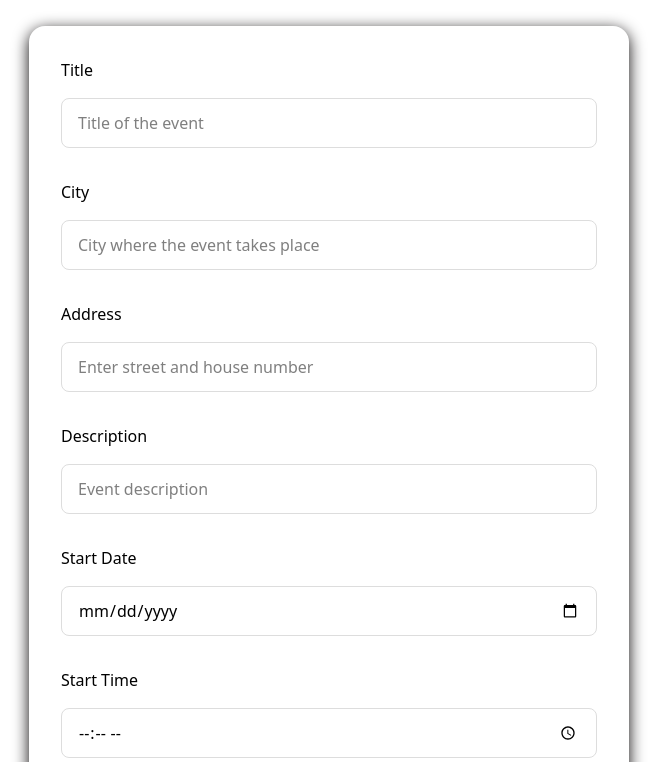
Test: CreatePost Page › submits the form and handles errors when backend is not available
The width and height of the screenshot is (659, 762).
Type "Test Event" into the field with placeholder "Title of the event". click: (329, 123)
box: [61,98,597,148]
Type "Berlin" into the field with placeholder "City where the event takes place". click: (329, 245)
box: [61,220,597,270]
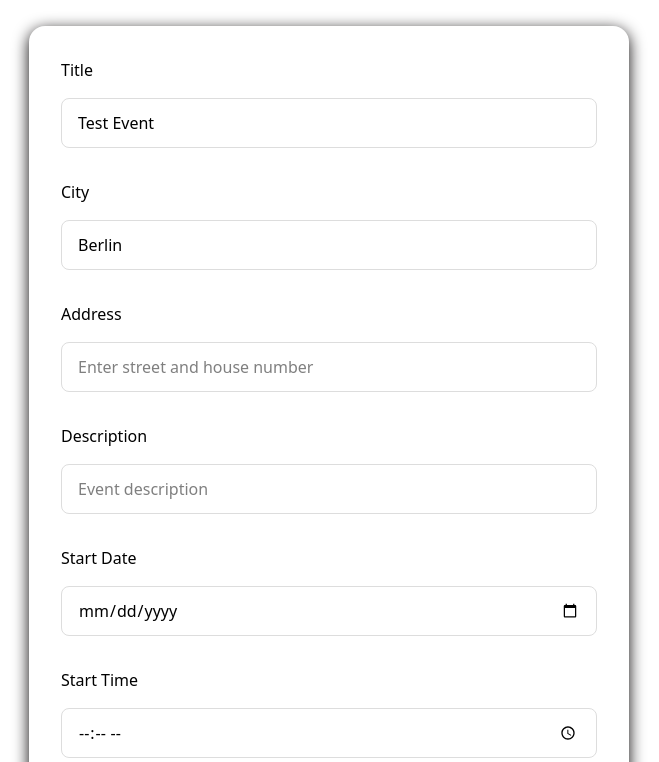
Type "Street 123" into the field with placeholder "Enter street and house number". click: (329, 367)
box: [61,342,597,392]
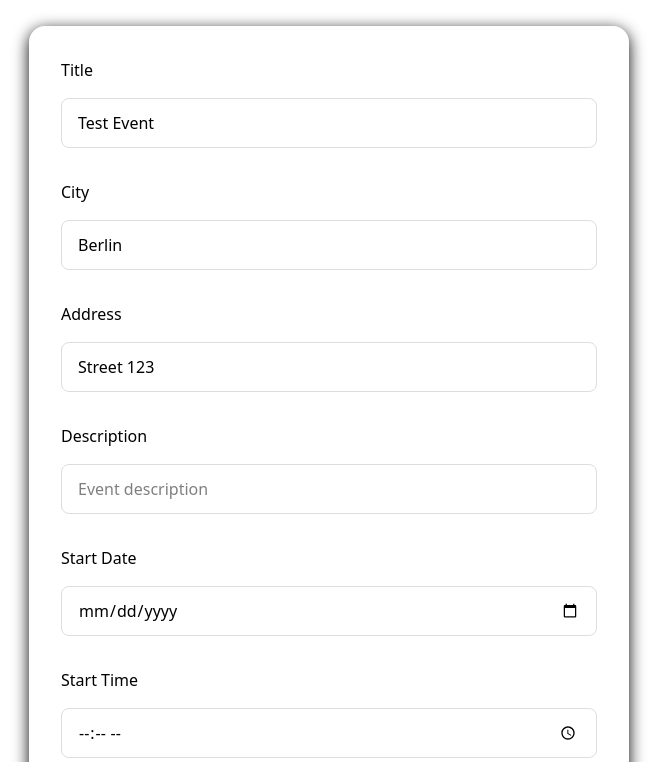
Type "This is a test event." into the field with placeholder "Event description". click: (329, 489)
box: [61,464,597,514]
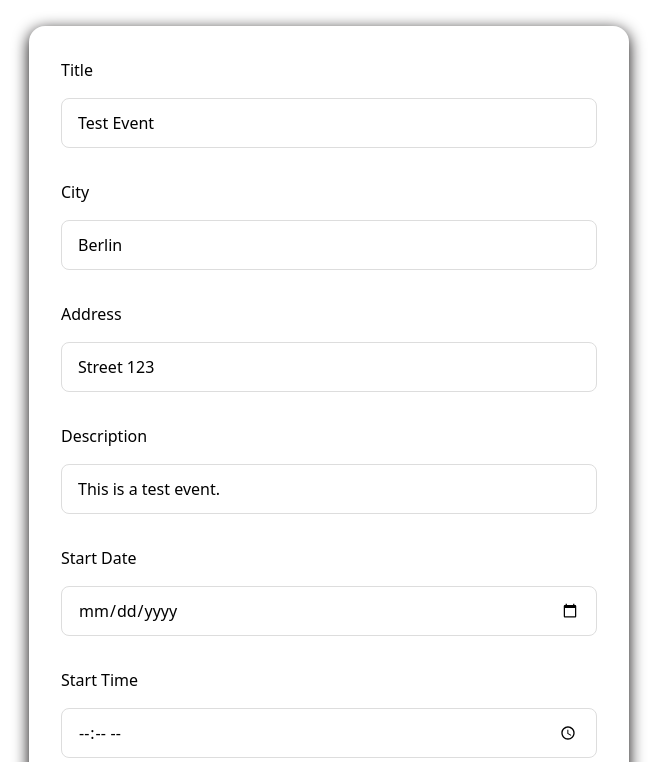
Type "2025-06-19" into the date field with placeholder "Start Date". click: (329, 611)
box: [61,586,597,636]
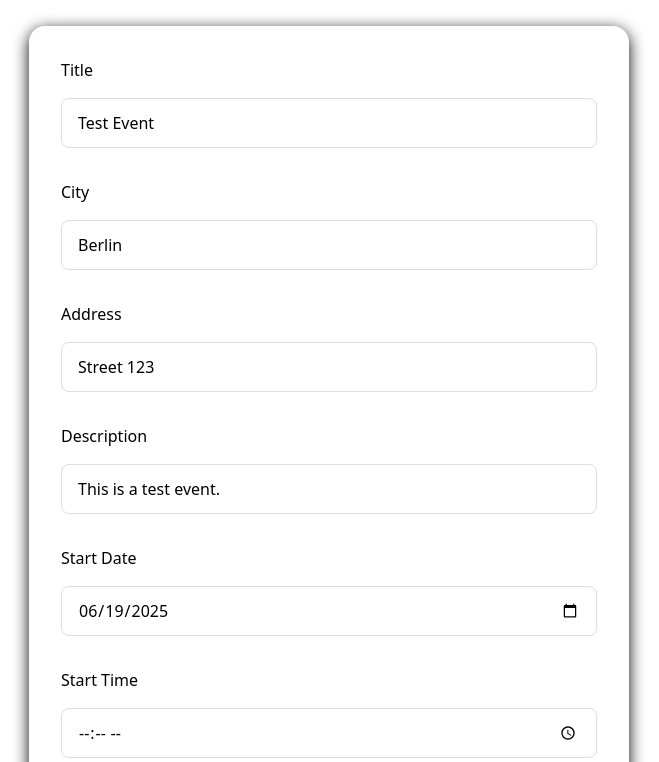
Type "12:00" into the time field with placeholder "Start Time". click: (329, 733)
box: [61,708,597,758]
(page scrolled)
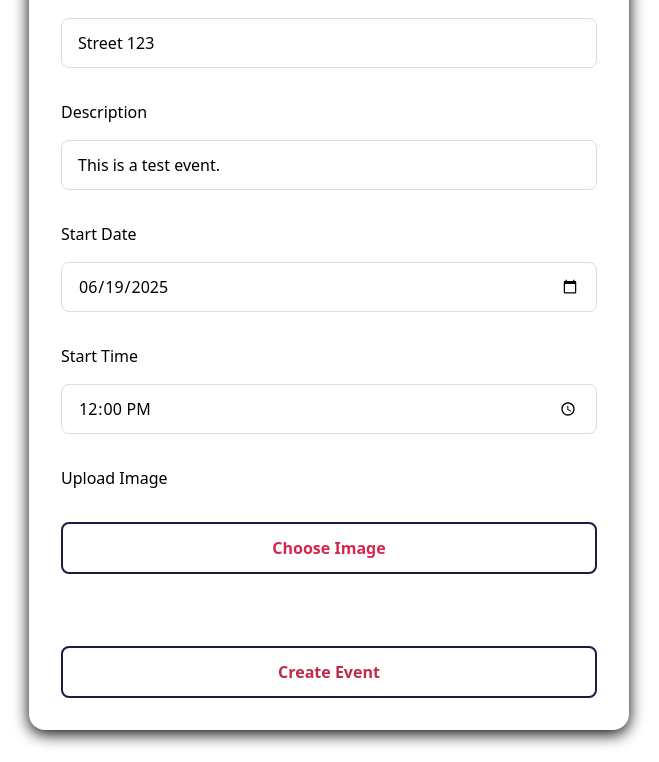
Click the button "Create Event". click: click(329, 672)
box: [61,646,597,698]
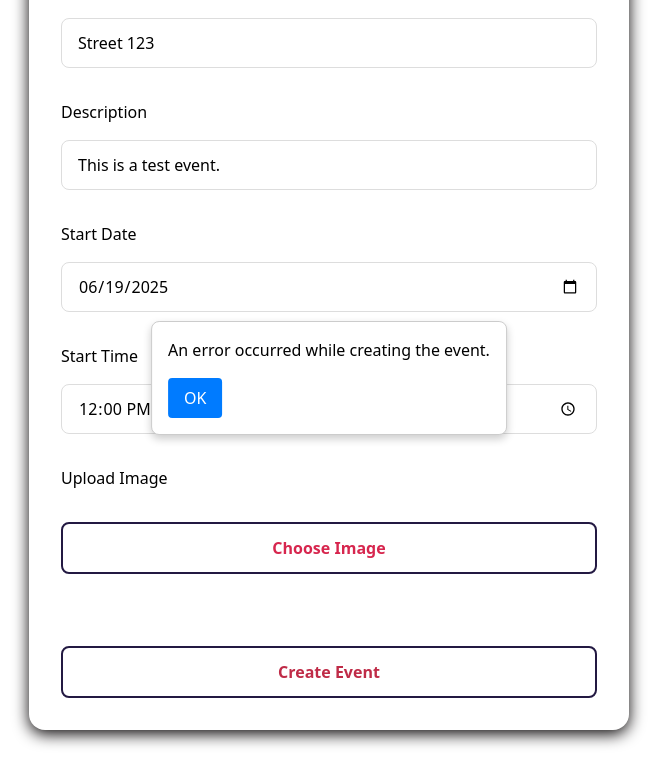
Expected: the text "An error occurred while creating the event." is shown, [168,338,490,362]
